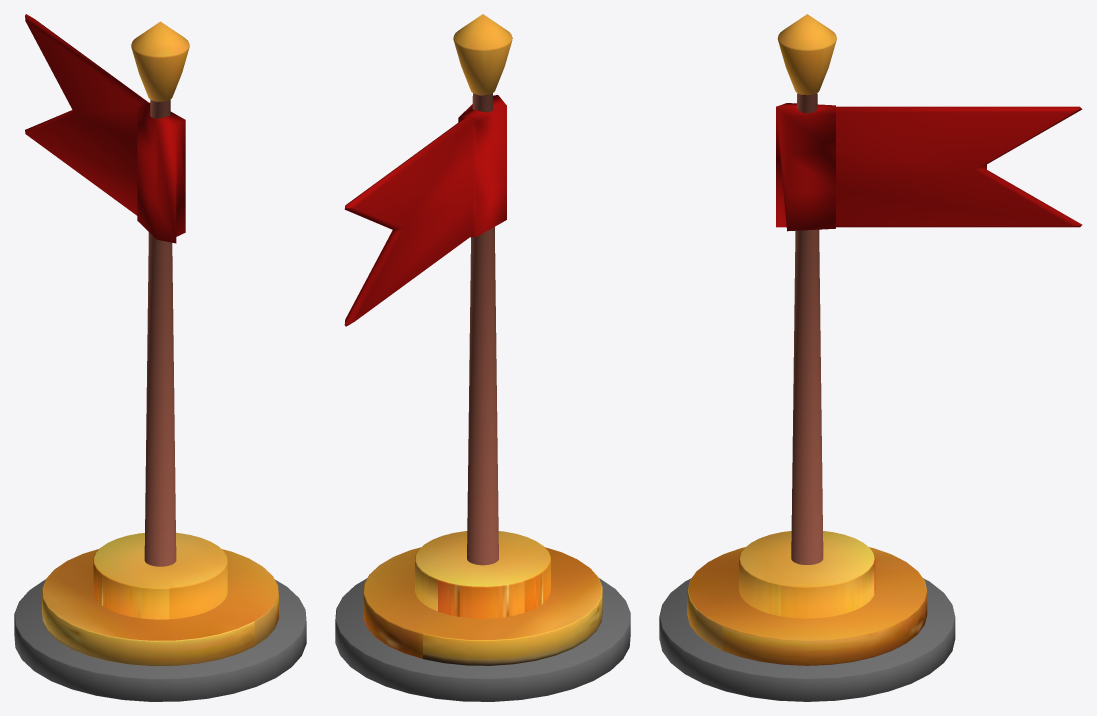
File: flag3texstues.fbx
3 views of the same model, side by side, from view 1: azimuth 30°, elevation 25°; view 2: azimuth 150°, elevation 25°; view 3: azimuth 270°, elevation 25° (orthographic).
Visible parts, largest first — view 1: Cylinder.001, Plane.001; view 2: Cylinder.001, Plane.001; view 3: Cylinder.001, Plane.001.
Boxes of the visible parts, x1,y1,x2,y2 form: Cylinder.001: [14, 21, 306, 701]; Plane.001: [25, 14, 185, 243]; Cylinder.001: [335, 14, 630, 701]; Plane.001: [344, 95, 506, 326]; Cylinder.001: [659, 14, 955, 701]; Plane.001: [776, 103, 1082, 231].
Bounding box in the file's own units: 127 × 296 × 181.
